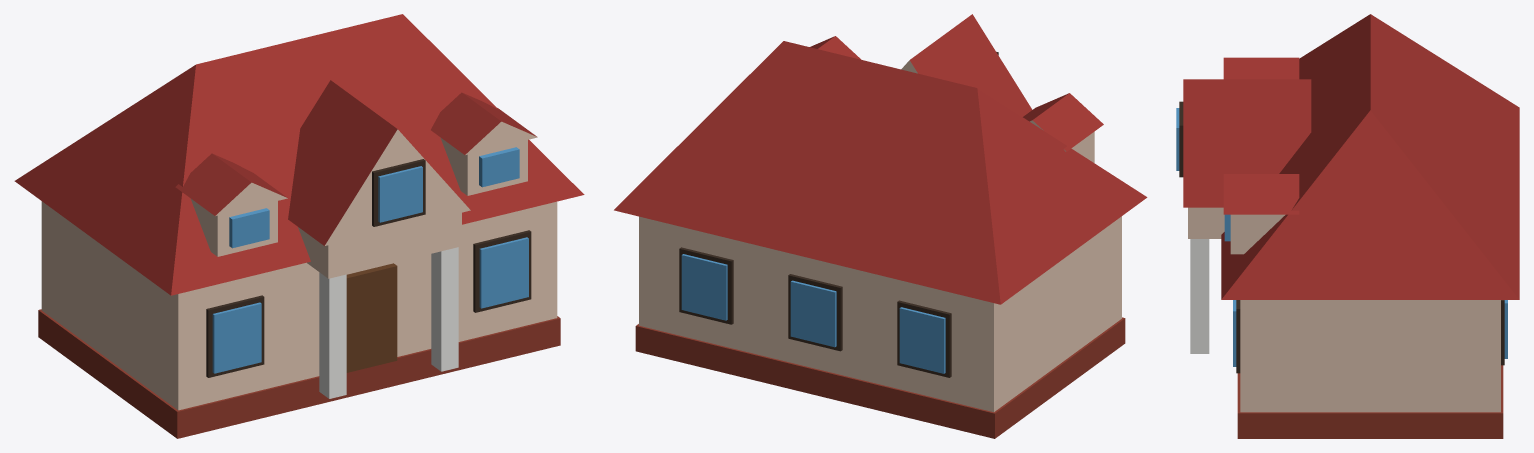
Rendered from 60_polish_dworek_4.obj.
The picture shows the model from 3 angles, left to right: view 1: azimuth 30°, elevation 25°; view 2: azimuth 150°, elevation 25°; view 3: azimuth 270°, elevation 25°; orthographic projection. The views are drawn at different scales.
Parts seen in each view (by area): view 1: 60_polish_dworek_4; view 2: 60_polish_dworek_4; view 3: 60_polish_dworek_4.
Part boxes in pixels (left/top/right/bottom): 60_polish_dworek_4: left=14, top=14, right=584, bottom=438; 60_polish_dworek_4: left=614, top=14, right=1147, bottom=438; 60_polish_dworek_4: left=1176, top=14, right=1519, bottom=438.
Size of the model in its own units: 1.92 by 1.34 by 1.45.
